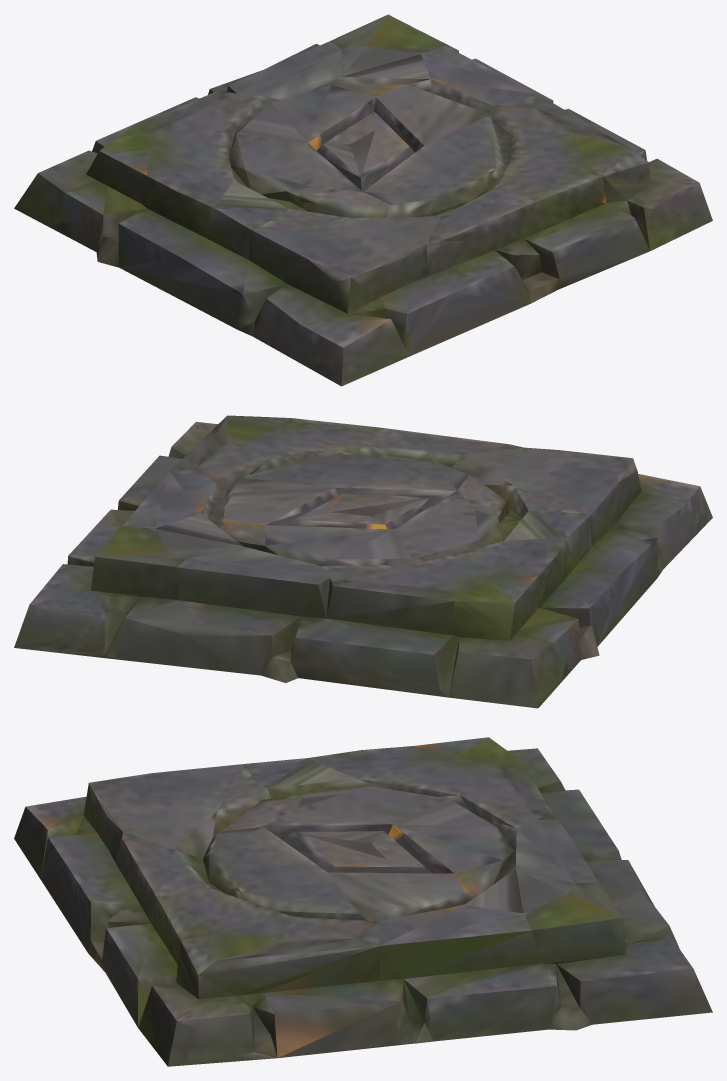
File: placa_presion_cueva.glb
3 views of the same model, one above another, from view 1: azimuth 30°, elevation 25°; view 2: azimuth 150°, elevation 25°; view 3: azimuth 270°, elevation 25° (orthographic). The views are drawn at different scales.
Visible parts, largest first — view 1: placa_presion_cueva_malla; view 2: placa_presion_cueva_malla; view 3: placa_presion_cueva_malla.
Part boxes in pixels (x1,y1,x2,y2): placa_presion_cueva_malla: [14, 14, 712, 386]; placa_presion_cueva_malla: [14, 415, 712, 708]; placa_presion_cueva_malla: [14, 737, 712, 1066].
Bounding box in the file's own units: 0.4722 × 0.0753 × 0.5053.
Materials: 1 (1 with a texture image).
